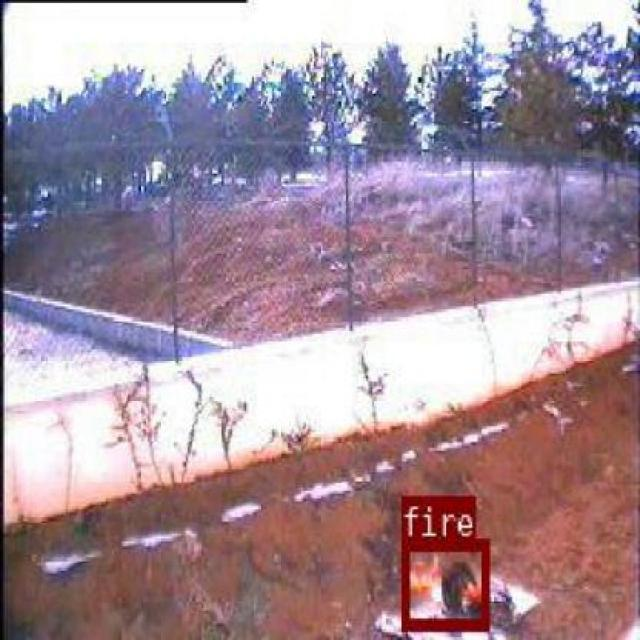Fire: (88, 91, 443, 583)
